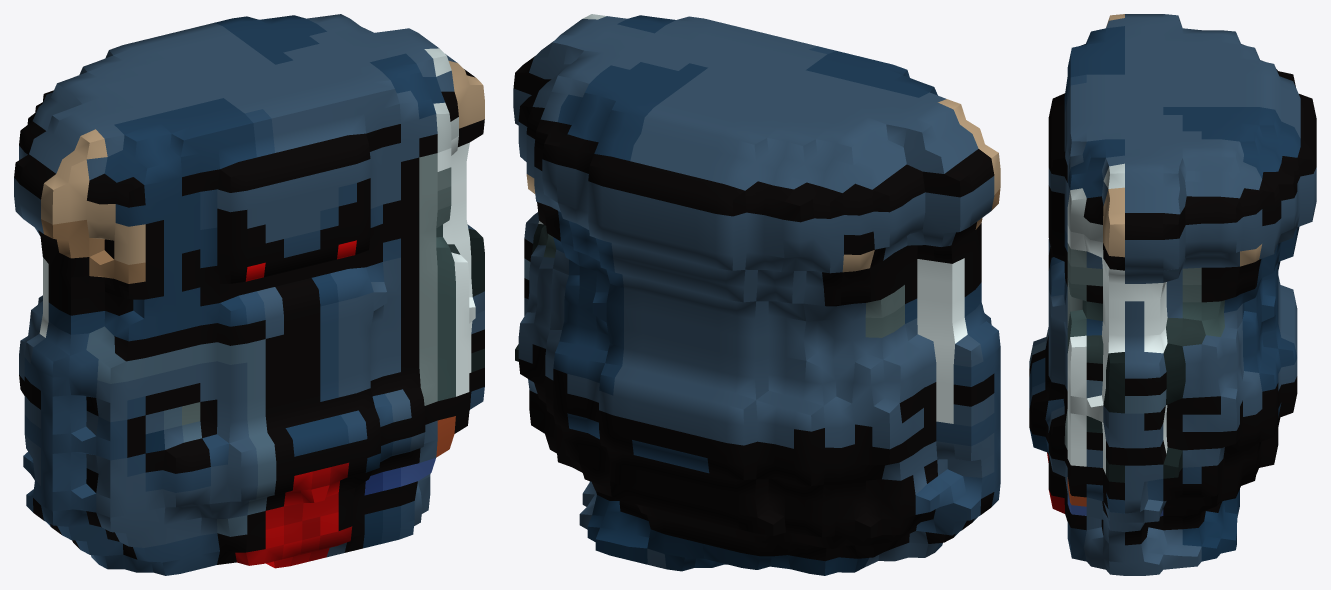
Rendered from Icon_742_01.obj.
The picture shows the model from 3 angles, left to right: view 1: azimuth 30°, elevation 25°; view 2: azimuth 150°, elevation 25°; view 3: azimuth 270°, elevation 25°; orthographic projection. The views are drawn at different scales.
Bounding box in the file's own units: 2.4 × 2.4 × 1.5.
1 material, 1 textured.
